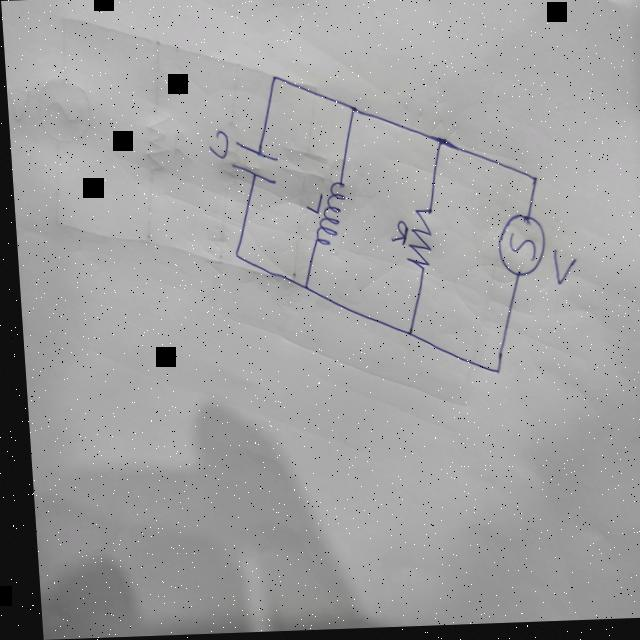capacitor: (226, 139, 278, 187)
inductor: (307, 182, 346, 248)
junction: (428, 133, 446, 154), (345, 101, 359, 120), (398, 326, 413, 342), (267, 72, 279, 86), (229, 247, 240, 262), (526, 177, 538, 189), (486, 366, 497, 379), (296, 281, 307, 293)
resistor: (399, 208, 434, 274)
source: (490, 213, 546, 283)
text: (546, 249, 574, 289), (205, 129, 228, 162), (386, 220, 406, 249), (302, 192, 322, 217)
